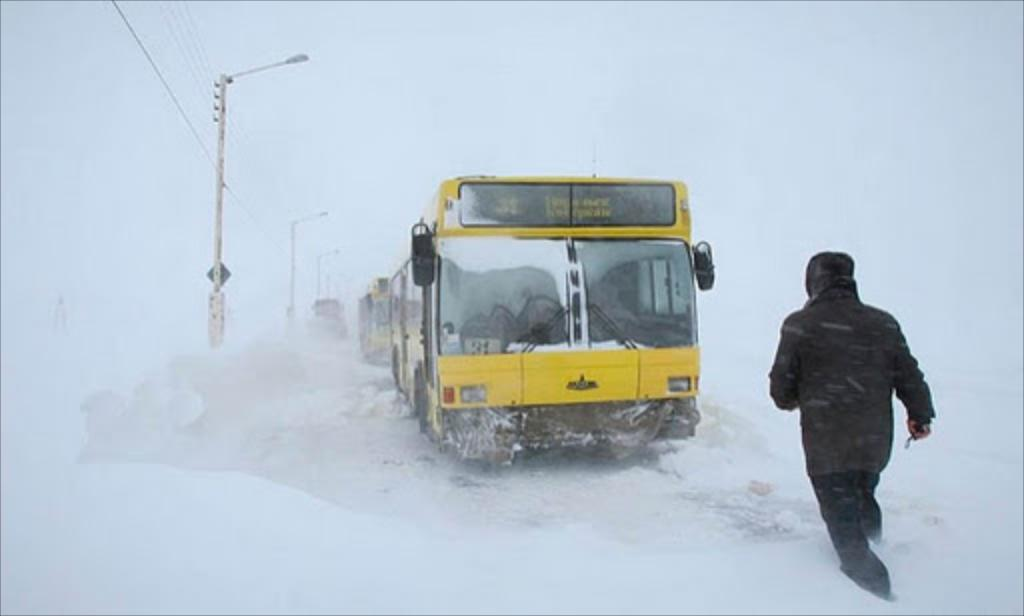Bus: (387, 134, 715, 466)
